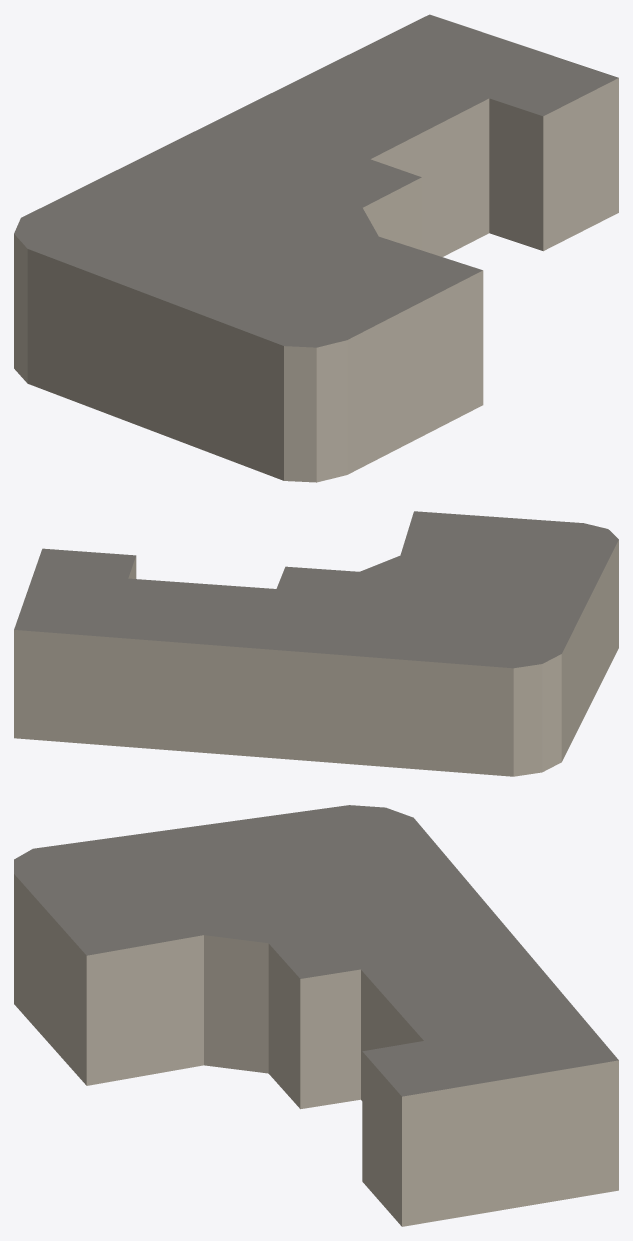
3 renders of one model, top to bottom at view 1: azimuth 30°, elevation 25°; view 2: azimuth 150°, elevation 25°; view 3: azimuth 270°, elevation 25°, orthographic. The views are drawn at different scales.
Parts seen in each view (by area): view 1: HP-w1197021311; view 2: HP-w1197021311; view 3: HP-w1197021311.
Boxes of the visible parts, x1,y1,x2,y2 form: HP-w1197021311: (14,14,618,482); HP-w1197021311: (14,511,618,776); HP-w1197021311: (14,805,618,1226).
Size of the model in its own units: 57.61 by 12 by 50.51.
